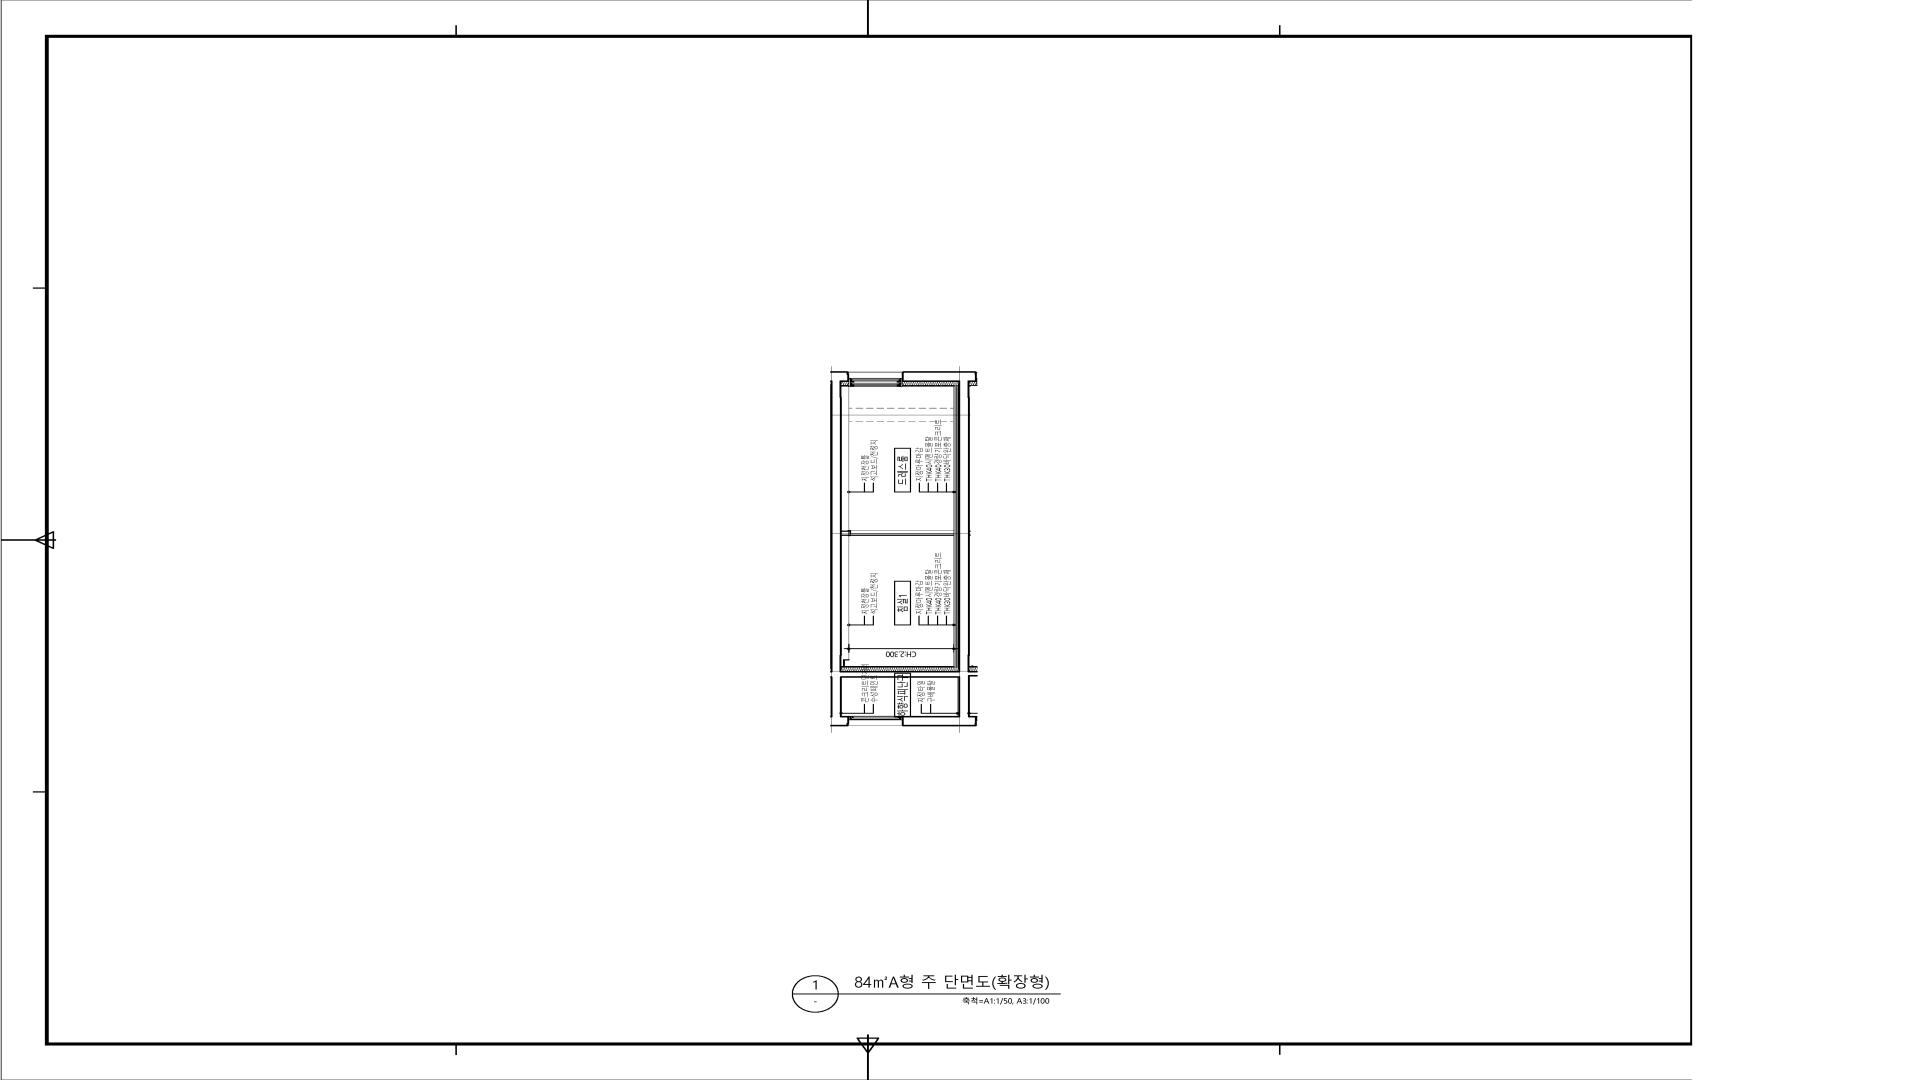background: (1, 0, 1920, 1080)
door: (851, 530, 953, 535)
wall: (902, 372, 971, 727), (831, 371, 848, 727), (841, 671, 959, 678), (841, 530, 851, 535)
window: (848, 372, 902, 386), (848, 716, 902, 727)
